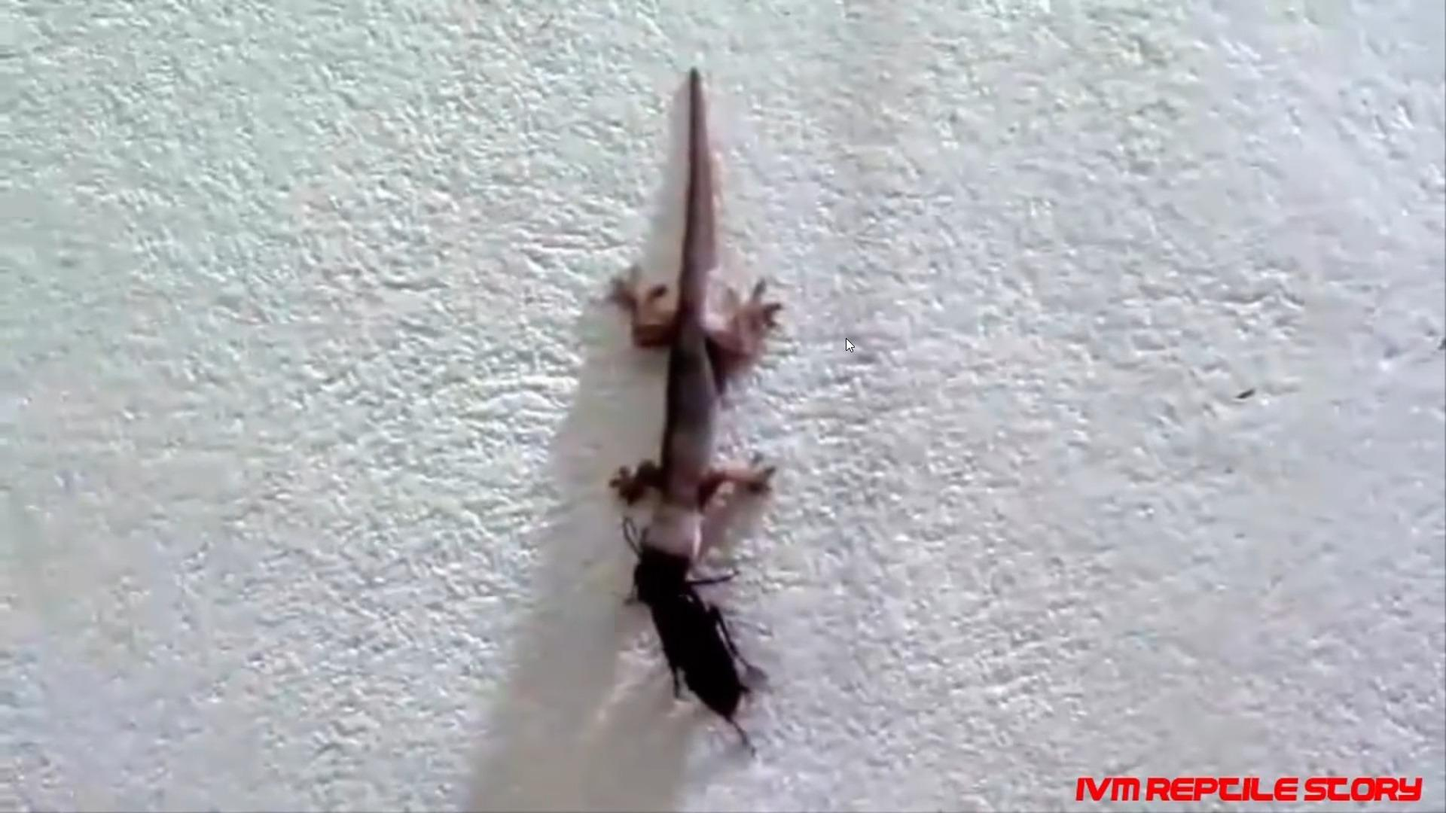cockroach: (628, 548, 733, 740)
lizard: (608, 124, 779, 574)
